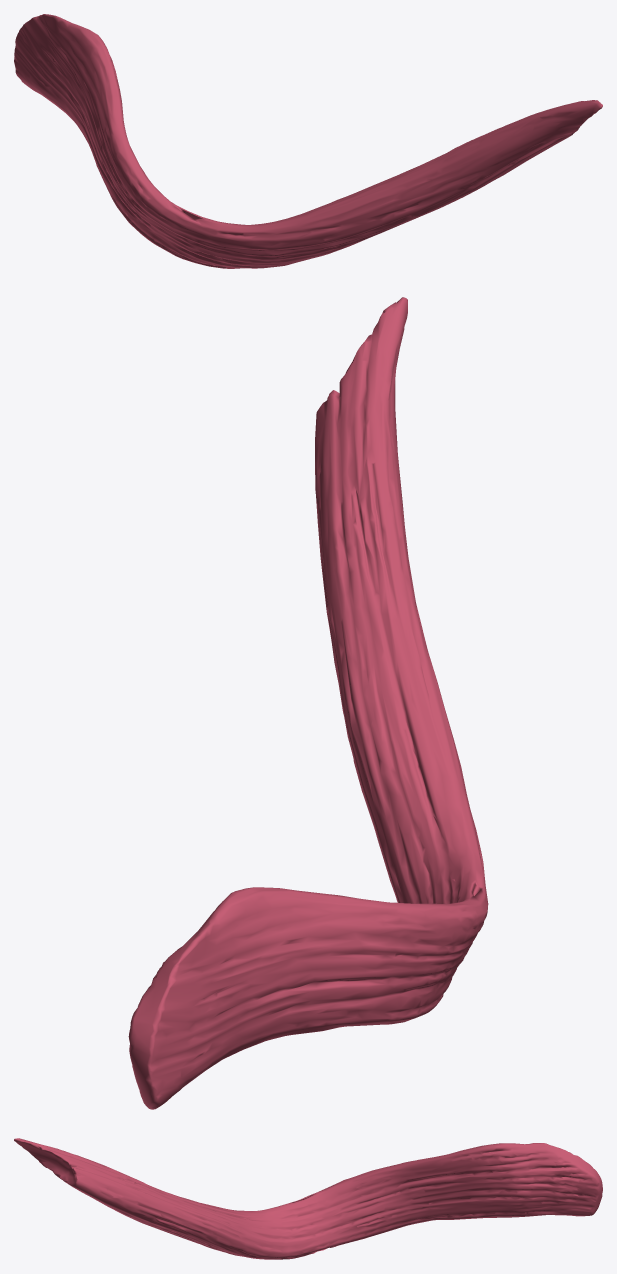
3 renders of one model, top to bottom at view 1: azimuth 30°, elevation 25°; view 2: azimuth 150°, elevation 25°; view 3: azimuth 270°, elevation 25°, orthographic. The views are drawn at different scales.
Visible parts, largest first — view 1: 左侧茎突咽肌; view 2: 左侧茎突咽肌; view 3: 左侧茎突咽肌.
Part boxes in pixels (x1,y1,x2,y2): 左侧茎突咽肌: (14,14,602,268); 左侧茎突咽肌: (128,297,488,1109); 左侧茎突咽肌: (14,1138,602,1259).
Bounding box in the file's own units: 0.0409 × 0.0358 × 0.0983.
